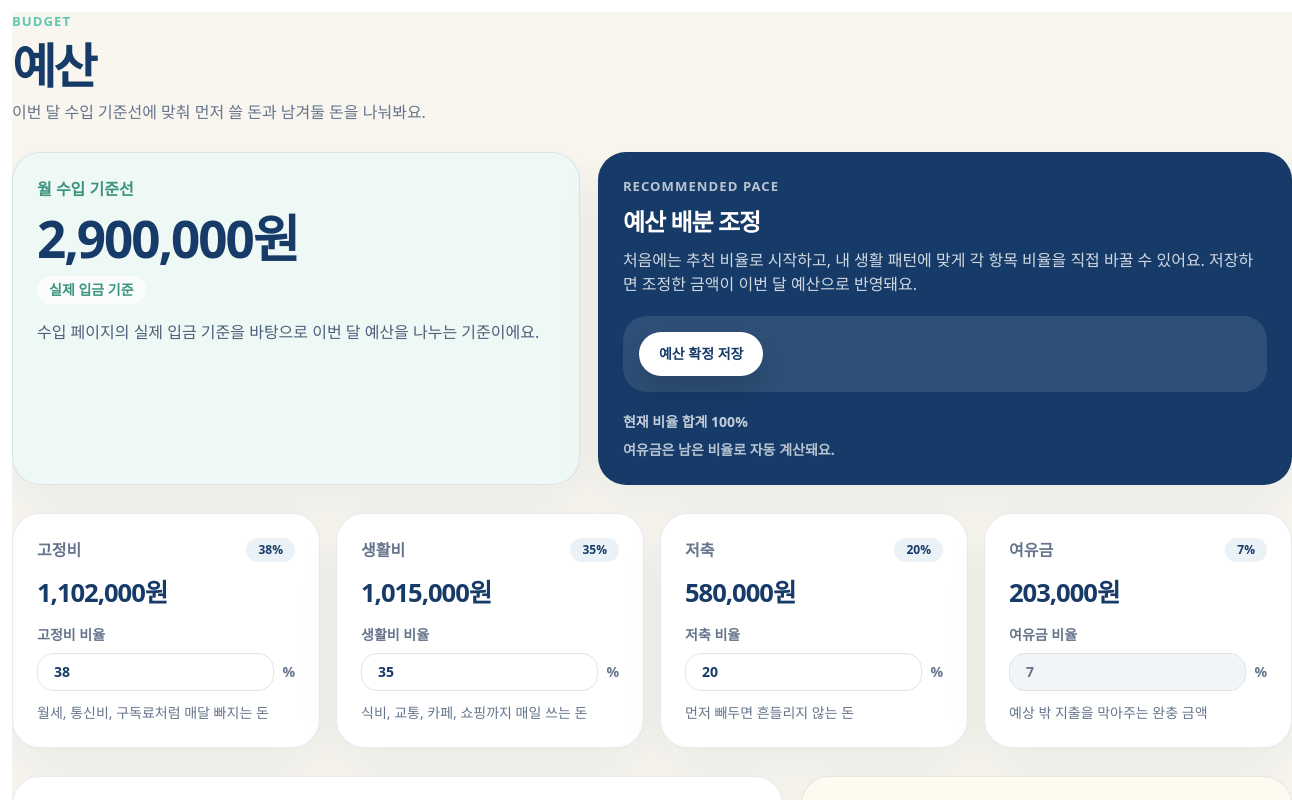
Test case: BudgetsPage › saves the recommended allocation for the current budget period
Expected: the text "2,900,000원" is shown, top-left (37, 202), bottom-right (298, 272)
Click the button "예산 확정 저장": [701, 354] box top-left (639, 332), bottom-right (764, 376)
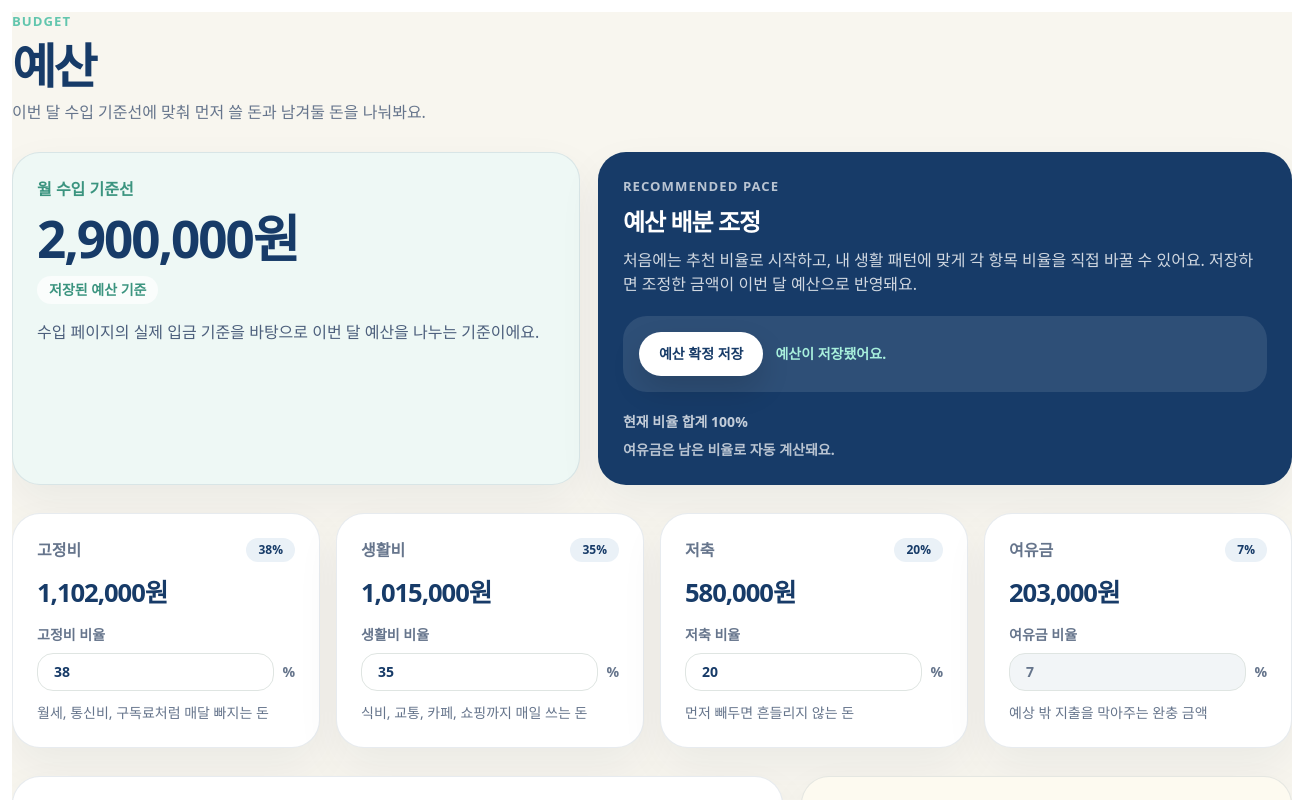
Expected: the message reads "예산이 저장됐어요.", top-left (776, 344), bottom-right (886, 363)
